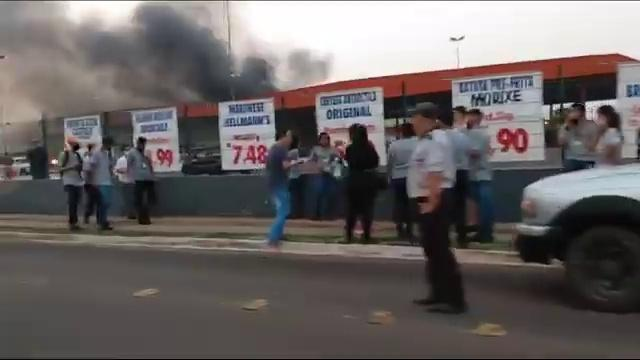smoke: (115, 20, 225, 97)
